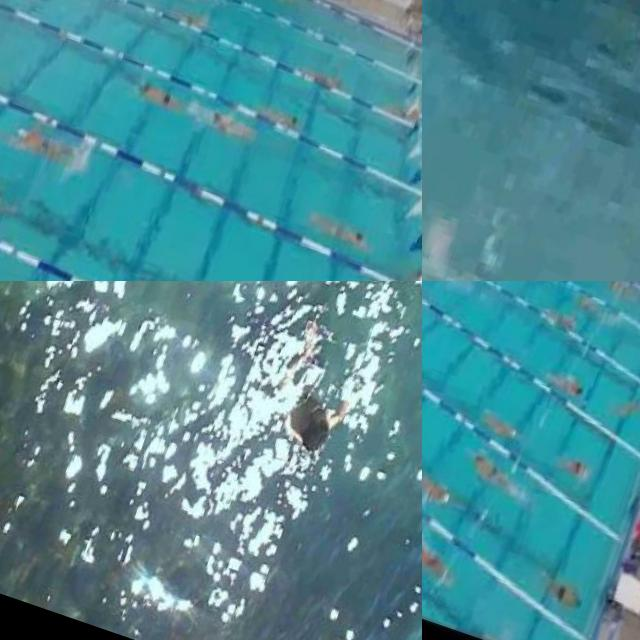swimming: (258, 312, 387, 472), (2, 109, 78, 170), (304, 198, 371, 252), (462, 449, 528, 496), (470, 397, 526, 452), (422, 451, 459, 515), (138, 72, 188, 115), (170, 1, 220, 44), (541, 573, 588, 618), (260, 94, 308, 136), (296, 55, 344, 96), (374, 95, 422, 136), (207, 106, 254, 146), (422, 531, 457, 584), (538, 364, 578, 402), (556, 449, 592, 486), (540, 302, 581, 334), (613, 396, 638, 426), (579, 292, 607, 318), (603, 281, 630, 291)
